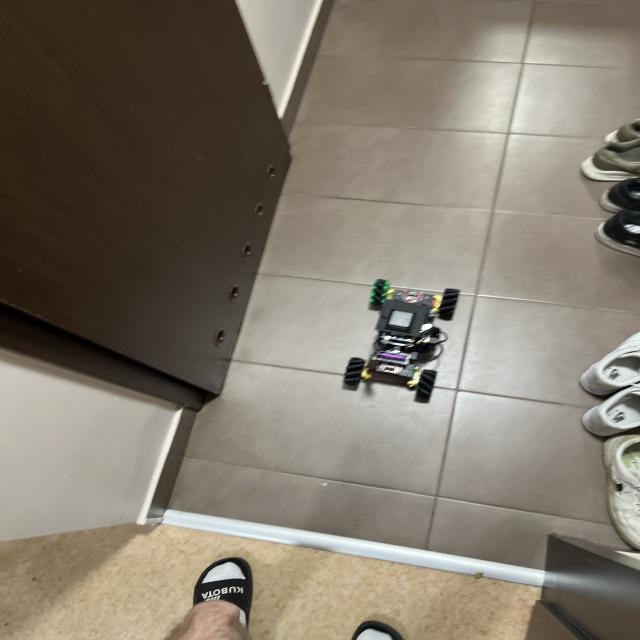robot: (343, 279, 459, 403)
